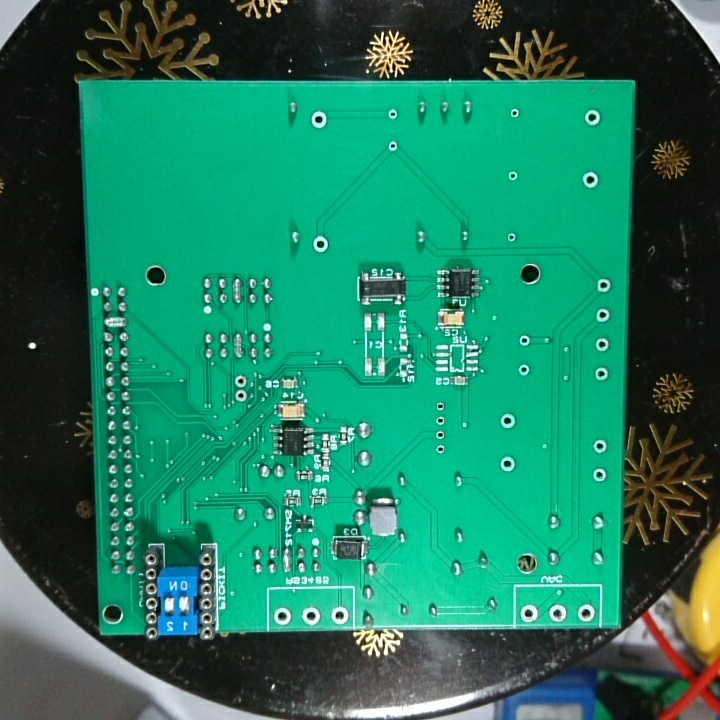F: (580, 170, 605, 193), (272, 603, 296, 626), (583, 106, 604, 132), (310, 232, 333, 255), (574, 600, 594, 626), (548, 603, 569, 625), (499, 452, 519, 475), (594, 275, 615, 296), (518, 603, 539, 624), (593, 363, 613, 385), (301, 604, 321, 626), (496, 410, 515, 433), (330, 603, 349, 626), (593, 305, 613, 326), (590, 438, 612, 457), (593, 334, 611, 355), (310, 110, 328, 130), (591, 464, 608, 484), (516, 359, 532, 380), (232, 387, 249, 405), (385, 136, 401, 155), (433, 412, 450, 429), (505, 229, 519, 248), (518, 332, 532, 350), (234, 373, 249, 389), (432, 441, 447, 457), (507, 105, 521, 122), (433, 428, 450, 442), (433, 398, 448, 413), (386, 107, 400, 123), (507, 168, 519, 184)
P: (230, 274, 246, 312), (101, 315, 131, 333), (231, 329, 244, 365), (280, 544, 294, 575)
